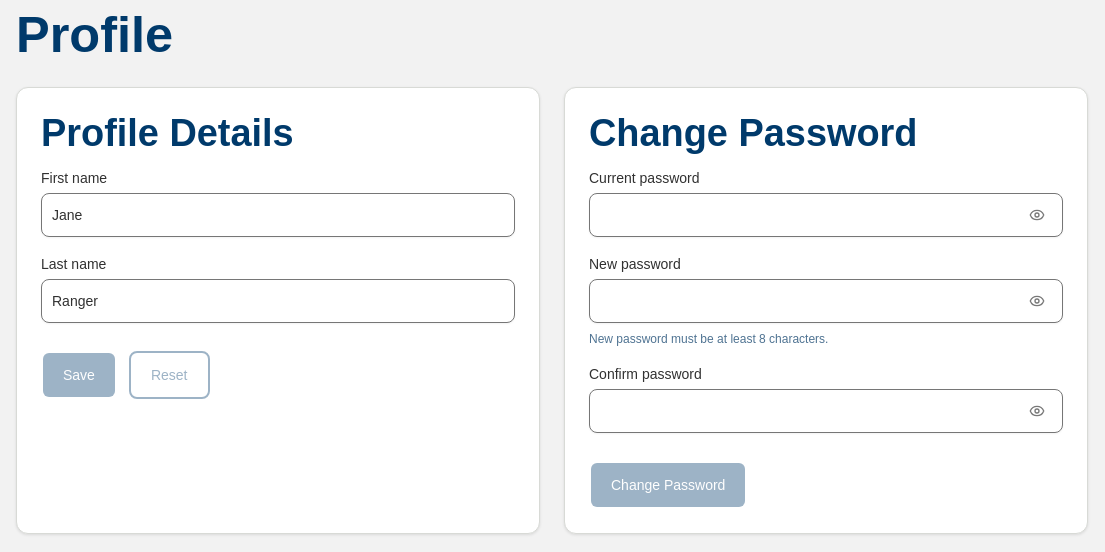
Test: ProfilePage › resets the profile form back to the loaded values
Replace the text in the field labelled "First name" with "Janet": point(278, 215) left=41, top=193, right=515, bottom=237
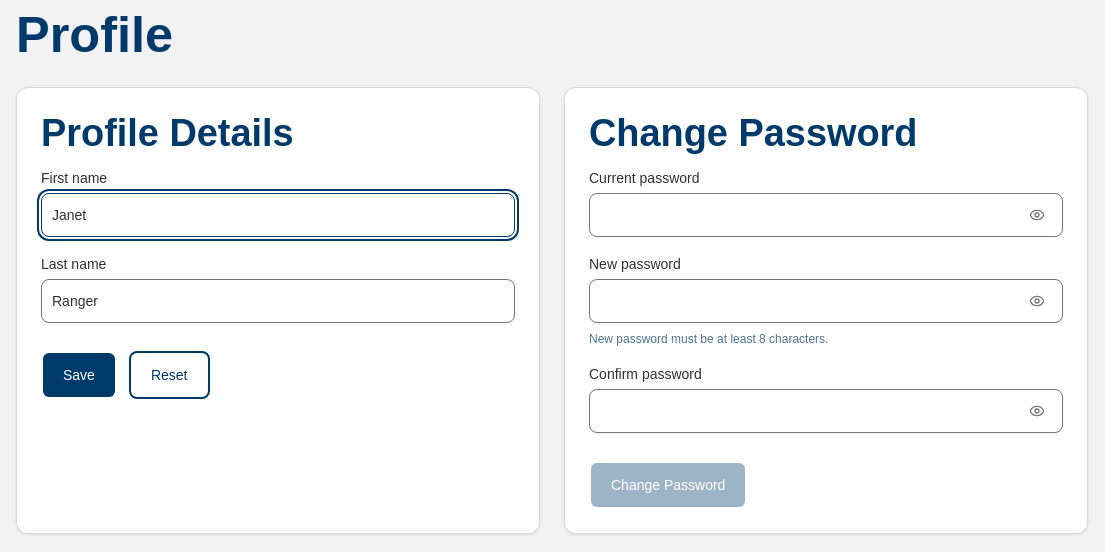
Replace the text in the field labelled "Last name" with "Smithers": point(278, 301) left=41, top=279, right=515, bottom=323
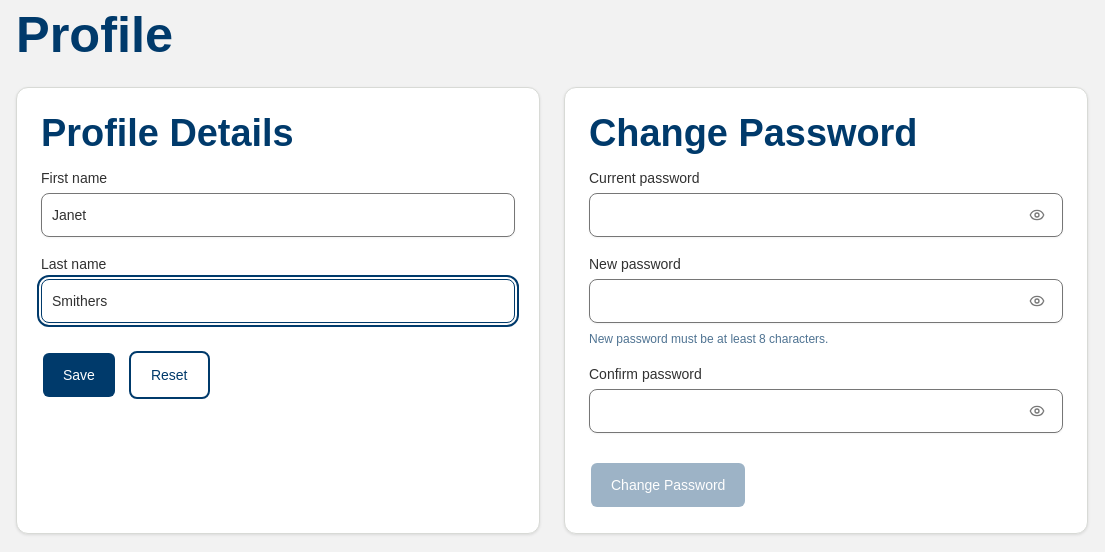
Click the button "Reset": point(169, 375) left=129, top=351, right=210, bottom=399
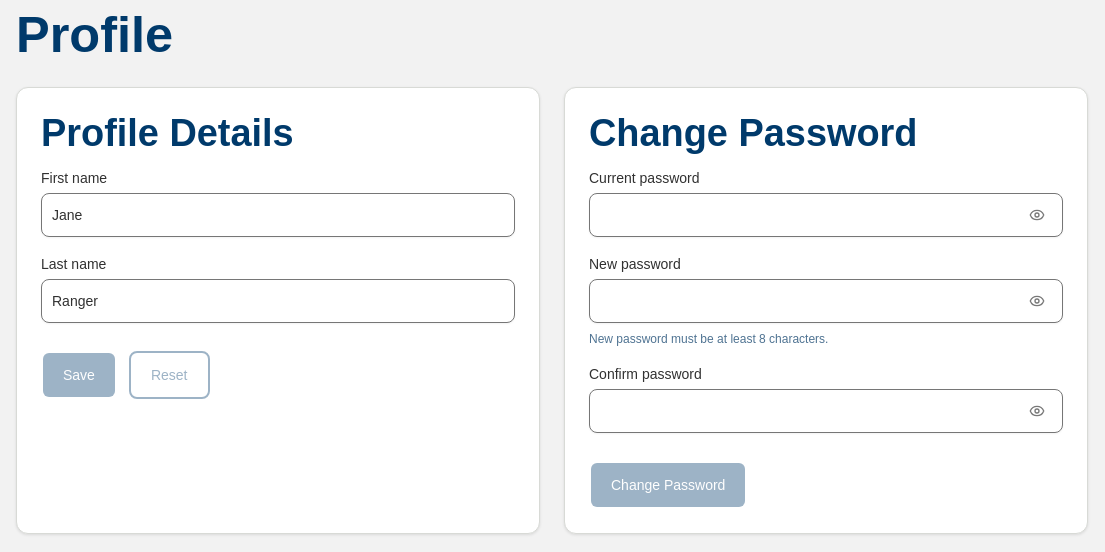
Check: the field labelled "First name" holds "Jane", box left=41, top=193, right=515, bottom=237
Check: the field labelled "Last name" holds "Ranger", box left=41, top=279, right=515, bottom=323
